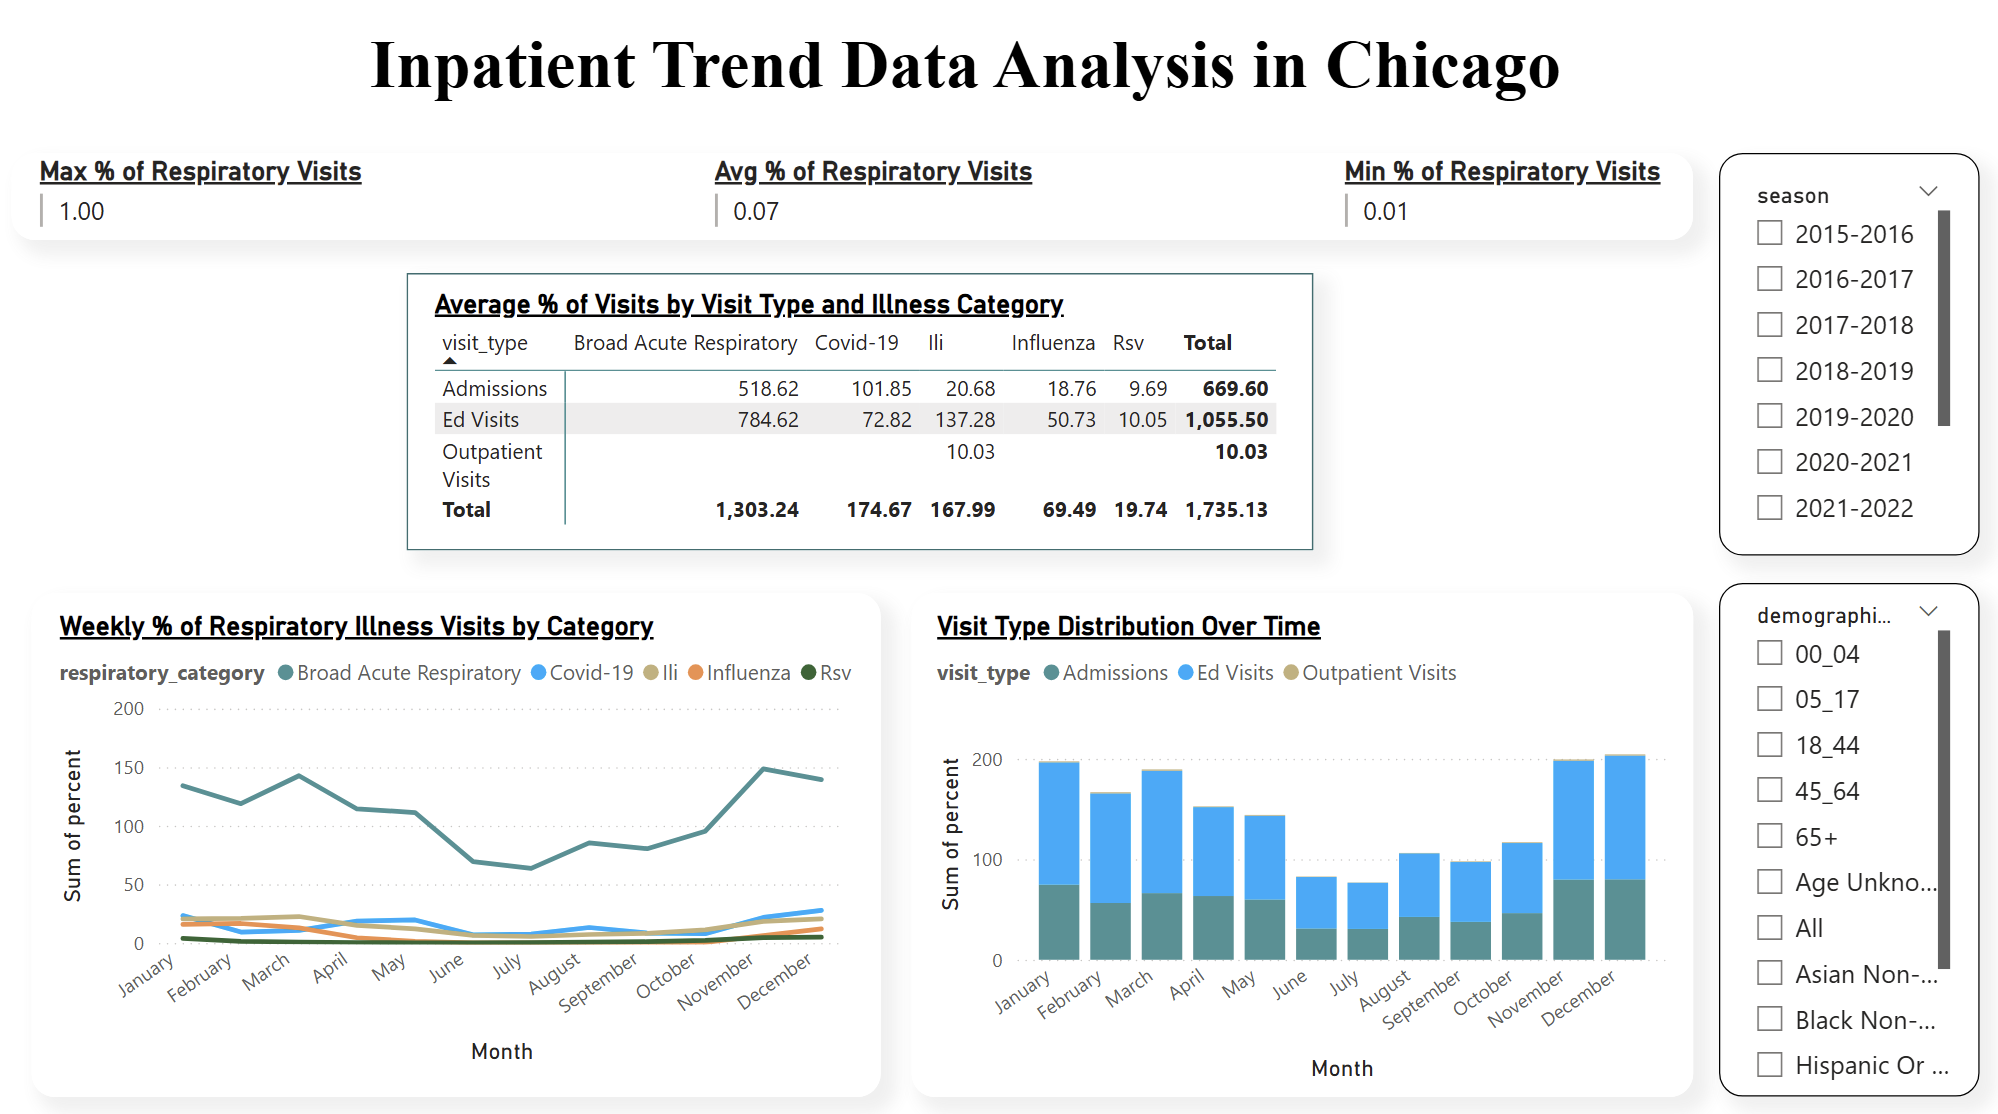

The page's visual inventory and layout, read from the dashboard file:
{"tool":"powerbi","page":{"name":"Respiratory Illness Trends in Chicago","canvas":[1280,720],"ordinal":0},"visuals":[{"type":"lineChart","title":"Weekly % of Respiratory Illness Visits by Category","fields":{"Y":["Sum(Inpatient_Respiratory_Visits_Cleaned.percent)"],"Series":["Inpatient_Respiratory_Visits_Cleaned.respiratory_category"],"Category":["Inpatient_Respiratory_Visits_Cleaned.current_week_ending.Variation.Date Hierarchy.Month"]},"box":[15.3,237,624,483.3],"z":0},{"type":"columnChart","title":"Visit Type Distribution Over Time","fields":{"Series":["Inpatient_Respiratory_Visits_Cleaned.visit_type"],"Category":["Inpatient_Respiratory_Visits_Cleaned.current_week_ending.Variation.Date Hierarchy.Year","Inpatient_Respiratory_Visits_Cleaned.current_week_ending.Variation.Date Hierarchy.Quarter","Inpatient_Respiratory_Visits_Cleaned.current_week_ending.Variation.Date Hierarchy.Month","Inpatient_Respiratory_Visits_Cleaned.current_week_ending.Variation.Date Hierarchy.Day"],"Y":["Sum(Inpatient_Respiratory_Visits_Cleaned.percent)"]},"box":[639.3,237,640.8,483.3],"z":1000},{"type":"slicer","title":"Filter by Demographic Group","fields":{"Values":["Inpatient_Respiratory_Visits_Cleaned.demographic_group"]},"box":[876.3,88.7,403.7,146.8],"z":2000},{"type":"actionButton","box":[0,0,100,40],"z":3000},{"type":"multiRowCard","title":"Key Statistics: Min / Max / Avg % of Respiratory Visits","fields":{"Values":["Avg(Inpatient_Respiratory_Visits_Cleaned.percent)","Max(Inpatient_Respiratory_Visits_Cleaned.percent)","Min(Inpatient_Respiratory_Visits_Cleaned.percent)1"]},"box":[578.1,88.7,298.2,145.3],"z":4000},{"type":"pivotTable","title":"Average % of Visits by Visit Type and Illness Category","fields":{"Rows":["Inpatient_Respiratory_Visits_Cleaned.visit_type"],"Columns":["Inpatient_Respiratory_Visits_Cleaned.respiratory_category"],"Values":["Sum(Inpatient_Respiratory_Visits_Cleaned.percent)"]},"box":[15.3,90.2,562.8,146.8],"z":5000},{"type":"textbox","box":[214.1,19.9,916.1,68.8],"z":6000}]}

Visuals, with their boxes in screenshot pixels (x1, y1, x2, y2), scaled from the page's 1280x720 canvas onto the 1998x1114 screenshot:
"Weekly % of Respiratory Illness Visits by Category" lineChart: locate(24, 367, 998, 1113)
"Visit Type Distribution Over Time" columnChart: locate(998, 367, 1997, 1113)
"Filter by Demographic Group" slicer: locate(1368, 137, 1997, 364)
actionButton: locate(0, 0, 156, 62)
"Key Statistics: Min / Max / Avg % of Respiratory Visits" multiRowCard: locate(902, 137, 1368, 362)
"Average % of Visits by Visit Type and Illness Category" pivotTable: locate(24, 140, 902, 367)
textbox: locate(334, 31, 1764, 137)
